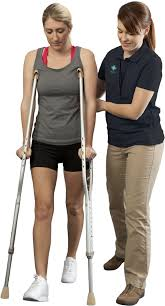crutches: (1, 3, 97, 306)
